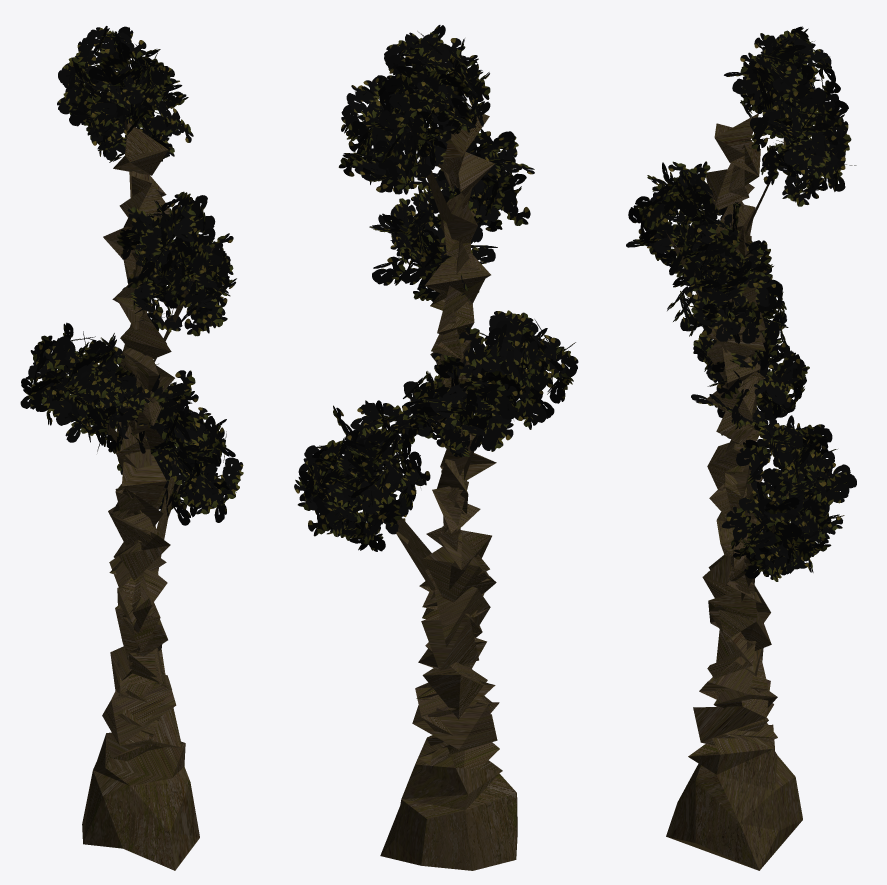
The model's file is deadwood_snag_v03_LOD2.fbx.
3 views of the same model, side by side, from view 1: azimuth 30°, elevation 25°; view 2: azimuth 150°, elevation 25°; view 3: azimuth 270°, elevation 25° (orthographic). The views are drawn at different scales.
Visible parts, largest first — view 1: deadwood_snag_v03_LOD2; view 2: deadwood_snag_v03_LOD2; view 3: deadwood_snag_v03_LOD2.
Boxes of the visible parts, x1,y1,x2,y2 form: deadwood_snag_v03_LOD2: (20,26,243,870); deadwood_snag_v03_LOD2: (294,25,578,870); deadwood_snag_v03_LOD2: (626,26,856,870).
Size of the model in its own units: 290 by 260 by 926.
Materials: 2 (2 with a texture image).
